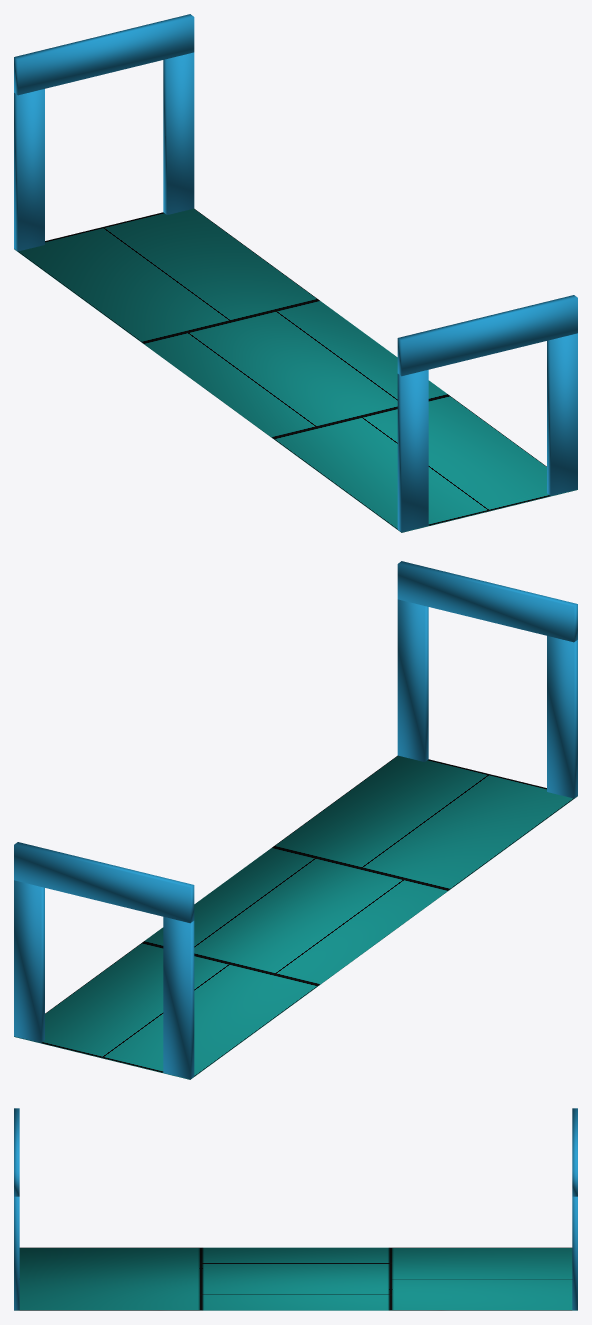
File: pasillo.obj
3 renders of one model, top to bottom at view 1: azimuth 30°, elevation 25°; view 2: azimuth 150°, elevation 25°; view 3: azimuth 270°, elevation 25°, orthographic. The views are drawn at different scales.
Parts seen in each view (by area): view 1: Box001, Box002, Box005, Box004, Box007, Box006, Box003; view 2: Box001, Box005, Box002, Box006, Box003, Box004, Box007; view 3: Box001, Box003, Box007, Box002, Box005.
Boxes of the visible parts, x1,y1,x2,y2 form: Box001: (14,208,577,532); Box002: (397,295,577,376); Box005: (14,14,194,95); Box004: (397,370,428,532); Box007: (163,52,194,214); Box006: (14,89,44,251); Box003: (547,333,577,495); Box001: (14,755,577,1079); Box005: (14,842,194,923); Box002: (397,561,577,642); Box006: (163,917,194,1079); Box003: (397,599,428,761); Box004: (547,636,577,798); Box007: (14,880,44,1042); Box001: (14,1247,577,1310); Box003: (14,1196,19,1310); Box007: (572,1196,577,1310); Box002: (14,1108,19,1196); Box005: (572,1108,577,1196).
Size of the model in its own units: 260 by 271 by 990.
Materials: 2 (2 with a texture image).
